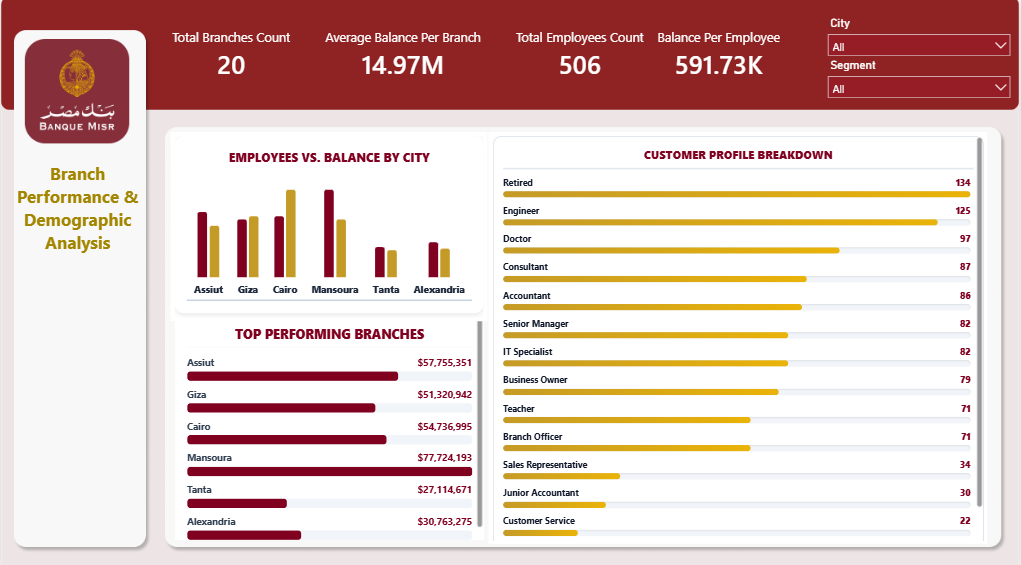

Layout of this report page (visuals, bound fields, positions):
{"tool":"powerbi","page":{"name":"Branches & Customers Performance","canvas":[1280,720],"ordinal":4},"visuals":[{"type":"image","box":[12.1,48.3,169,131],"z":0},{"type":"textbox","box":[11.3,198.4,170.1,134.2],"z":1000},{"type":"cardVisual","fields":{"Data":["Dax.Total Branches Count"]},"box":[181.4,0,217.3,136.1],"z":2000},{"type":"cardVisual","fields":{"Data":["Dax.Average Balance Per Branch"]},"box":[372.3,0,268.3,136.1],"z":3000},{"type":"cardVisual","fields":{"Data":["Dax.Total Employees Count"]},"box":[612.3,0,230.6,136.1],"z":4000},{"type":"cardVisual","fields":{"Data":["Dax.Balance Per Employee"]},"box":[793.7,0,217.3,136.1],"z":5000},{"type":"slicer","fields":{"Values":["Dim_Customers.Segment"]},"box":[1029.9,68,249.5,68],"z":6000},{"type":"htmlContent443BE3AD55E043BF878BED274D3A6855","fields":{"content":["Dax.HTML_Top_Branches_Balance"]},"box":[213.5,387.4,398.7,296.7],"z":7000},{"type":"htmlContent443BE3AD55E043BF878BED274D3A6855","fields":{"content":["Dax.HTML_Employees_vs_Balance_Final"]},"box":[213.5,166.3,398.7,238.1],"z":8000},{"type":"slicer","fields":{"Values":["Dim_Customers.City"]},"box":[1029.9,15.1,249.5,68],"z":9000},{"type":"htmlContent443BE3AD55E043BF878BED274D3A6855","fields":{"content":["Dax.HTML_Customers_Job_Donut"]},"box":[612.3,166.3,627.4,517.8],"z":10000}]}

Visuals, with their boxes in screenshot pixels (x1, y1, x2, y2), scaled from the page's 1280x720 canvas onto the 1021x565 screenshot:
image: BBox(10, 38, 144, 141)
textbox: BBox(9, 156, 145, 261)
cardVisual - Dax.Total Branches Count: BBox(145, 0, 318, 107)
cardVisual - Dax.Average Balance Per Branch: BBox(297, 0, 511, 107)
cardVisual - Dax.Total Employees Count: BBox(488, 0, 672, 107)
cardVisual - Dax.Balance Per Employee: BBox(633, 0, 806, 107)
slicer - Dim_Customers.Segment: BBox(822, 53, 1020, 107)
htmlContent443BE3AD55E043BF878BED274D3A6855 - Dax.HTML_Top_Branches_Balance: BBox(170, 304, 488, 537)
htmlContent443BE3AD55E043BF878BED274D3A6855 - Dax.HTML_Employees_vs_Balance_Final: BBox(170, 130, 488, 317)
slicer - Dim_Customers.City: BBox(822, 12, 1020, 65)
htmlContent443BE3AD55E043BF878BED274D3A6855 - Dax.HTML_Customers_Job_Donut: BBox(488, 130, 989, 537)
